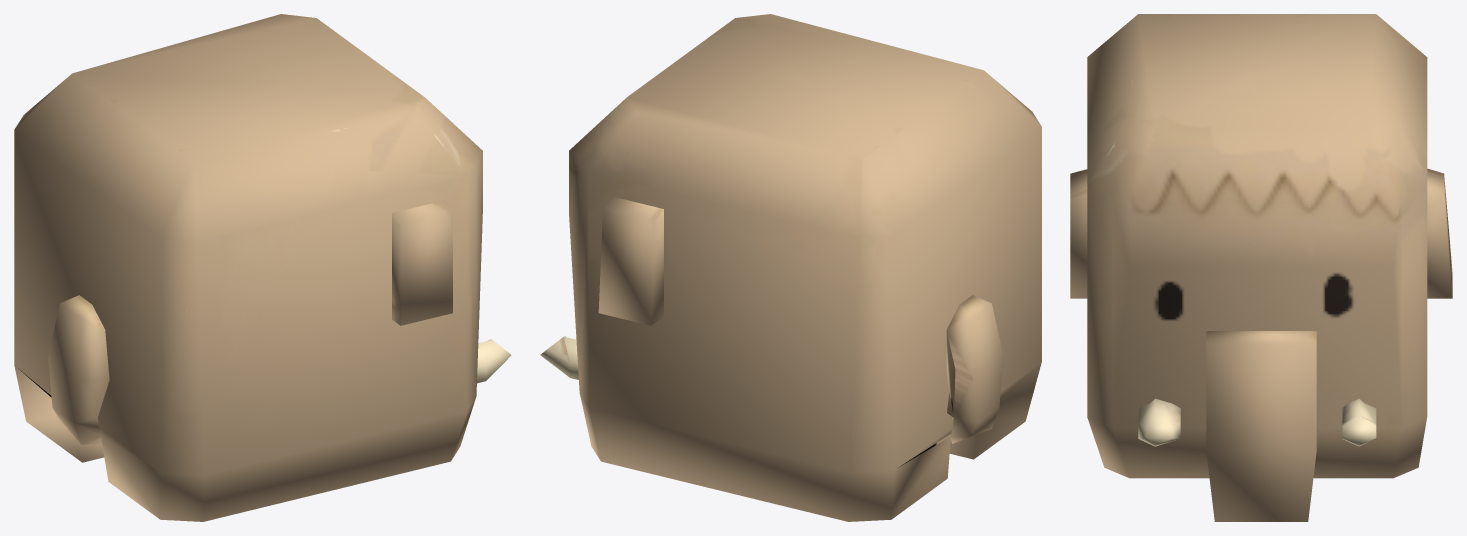
The picture shows the model from 3 angles, left to right: view 1: azimuth 30°, elevation 25°; view 2: azimuth 150°, elevation 25°; view 3: azimuth 270°, elevation 25°; orthographic projection.
Visible parts, largest first — view 1: 1.002, 5.002, 2.002; view 2: 1.002, 6.002, 3.002; view 3: 1.002, 4.002, 6.002, 5.002, 2.002, 3.002.
Boxes of the visible parts, x1,y1,x2,y2 form: 1.002: (14,14,482,521); 5.002: (392,200,452,325); 2.002: (477,339,511,383); 1.002: (569,14,1041,521); 6.002: (598,196,663,325); 3.002: (540,336,578,379); 1.002: (1087,14,1427,478); 4.002: (1206,331,1316,521); 6.002: (1427,168,1452,298); 5.002: (1070,169,1087,298); 2.002: (1138,398,1180,446); 3.002: (1342,399,1376,446).
Size of the model in its own units: 0.1018 by 0.0917 by 0.0881.
Materials: 1 (1 with a texture image).
